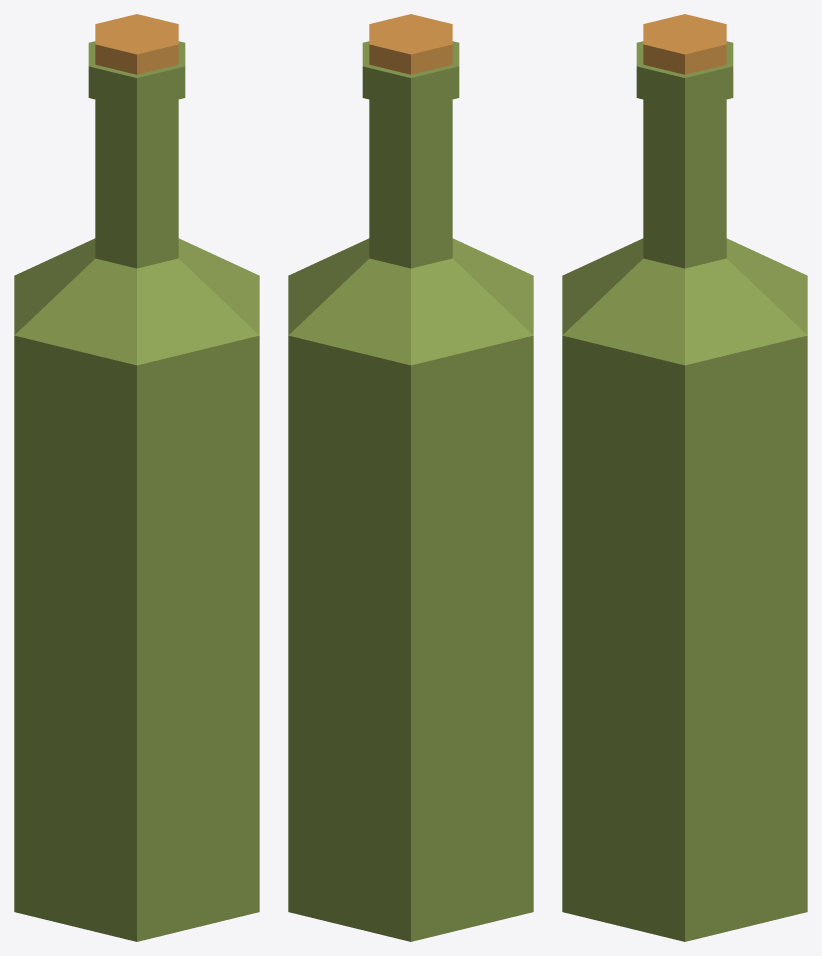
The model's file is wineBottle2_PLY.fbx.
The picture shows the model from 3 angles, left to right: view 1: azimuth 30°, elevation 25°; view 2: azimuth 150°, elevation 25°; view 3: azimuth 270°, elevation 25°; orthographic projection.
Visible parts, largest first — view 1: wineBottle2_PLY; view 2: wineBottle2_PLY; view 3: wineBottle2_PLY.
Part boxes in pixels (x1=…): wineBottle2_PLY: x1=14, y1=14, x2=259, y2=941; wineBottle2_PLY: x1=288, y1=14, x2=533, y2=941; wineBottle2_PLY: x1=562, y1=14, x2=807, y2=941.
Bounding box in the file's own units: 0.4872 × 1.61 × 0.422.
